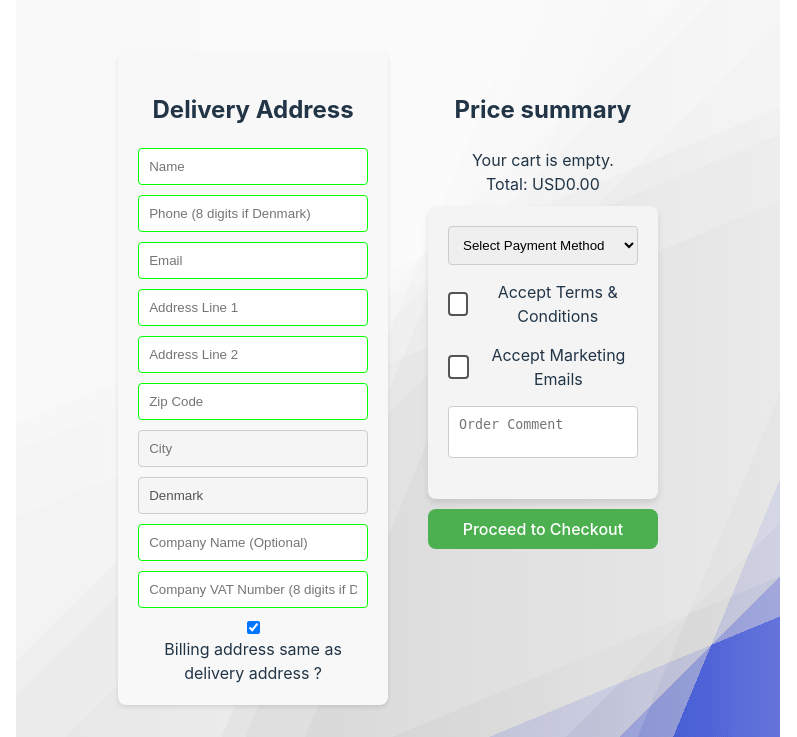
Test: App › displays "Invalid email" error for incorrect email input
This screenshot has width=797, height=737.
(page scrolled)
Step 1. Type "invalid-email" into the field with test id "emailInput" → x=253, y=261, box [138,242,368,279]
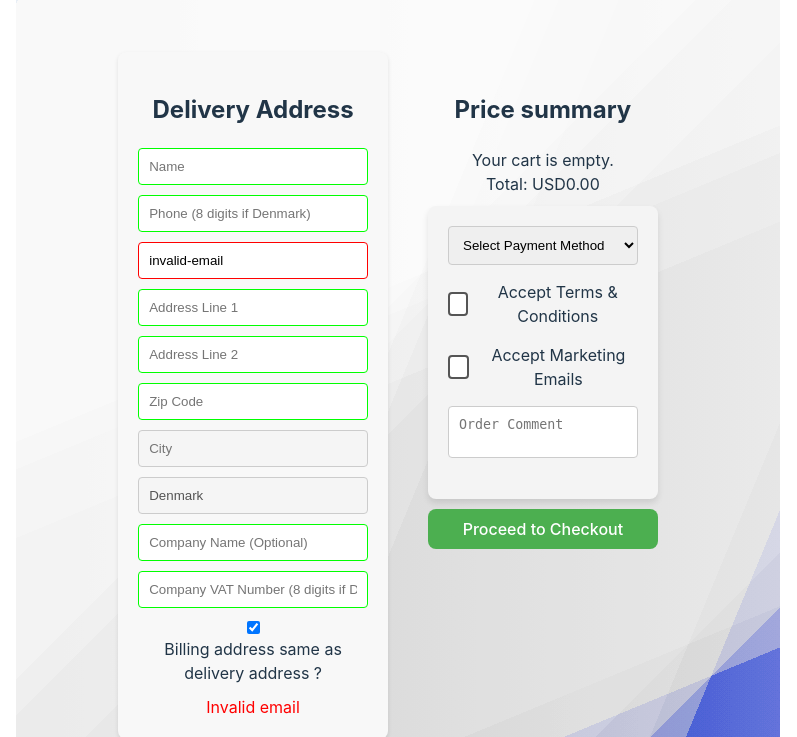
Expected: the text "Invalid email" is shown, [206,697,300,717]
